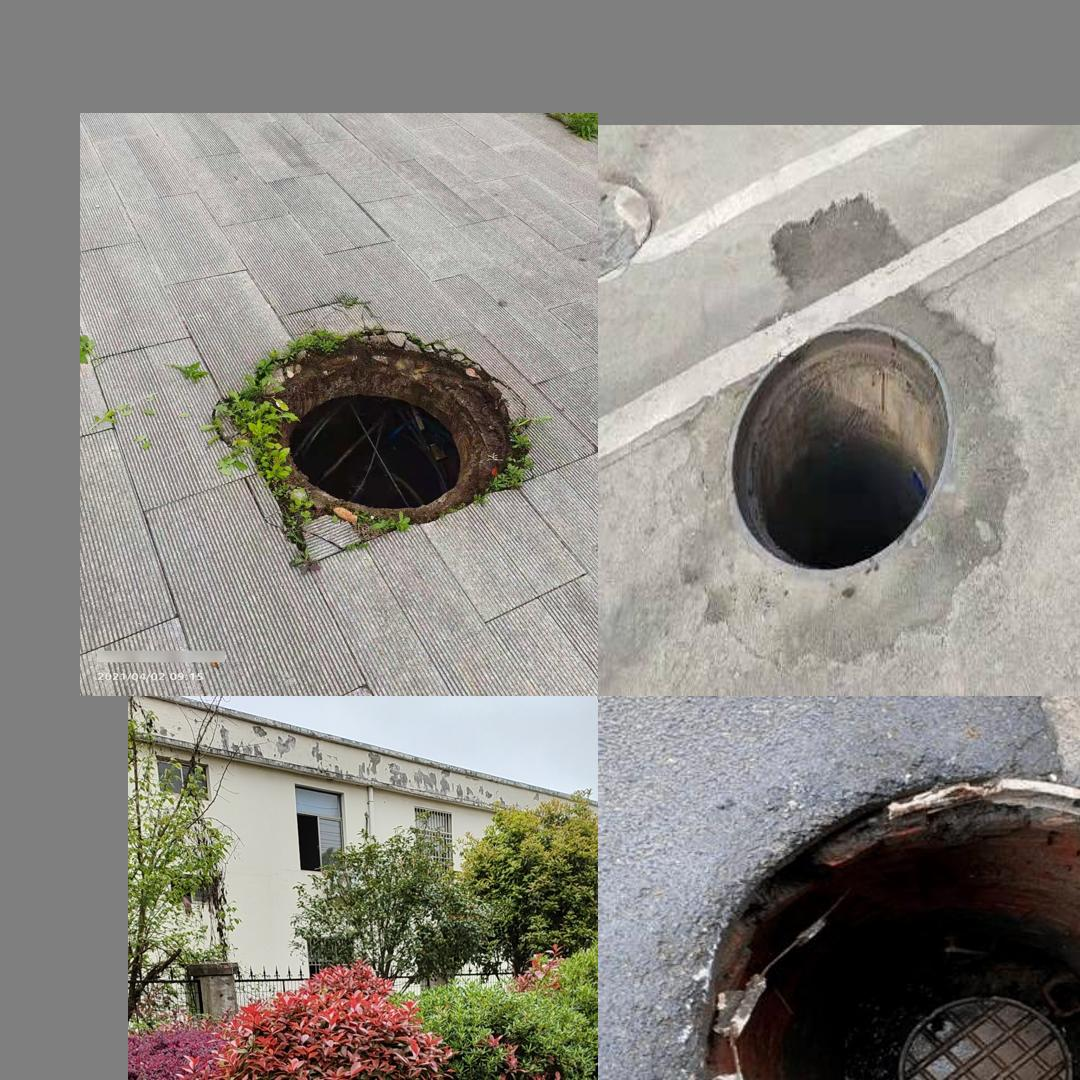lose: (687, 780, 1080, 1080), (723, 317, 948, 587), (253, 343, 504, 526)
